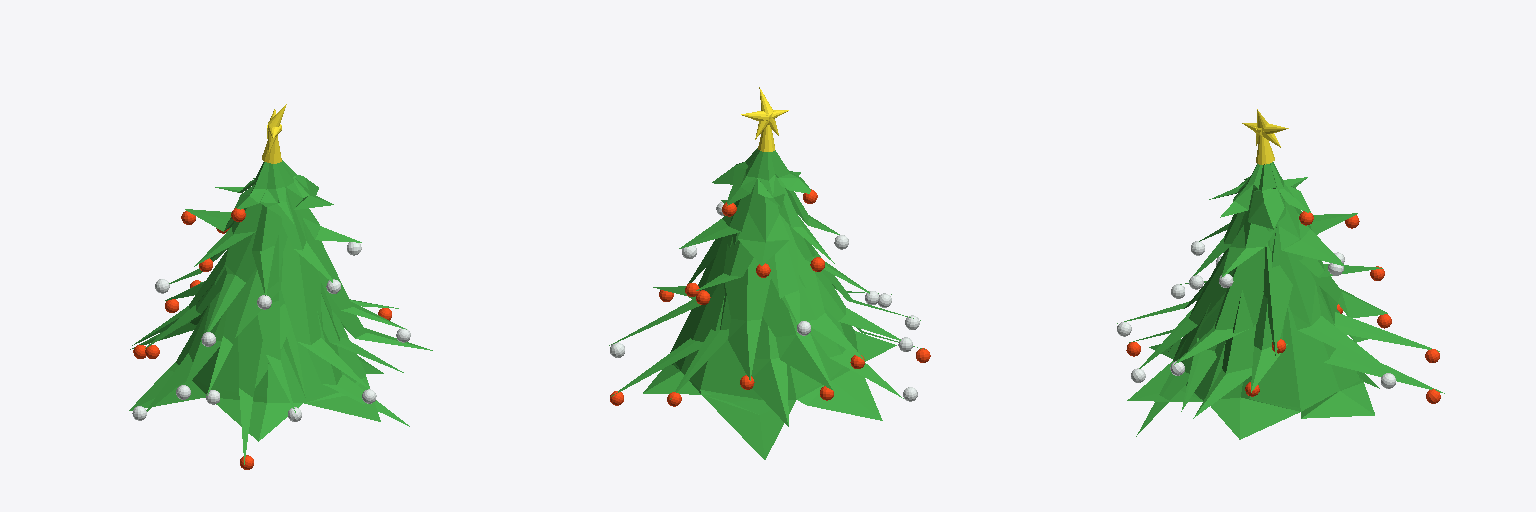
Rendered from tree_six.obj.
3 renders of one model, left to right at view 1: azimuth 30°, elevation 25°; view 2: azimuth 150°, elevation 25°; view 3: azimuth 270°, elevation 25°, orthographic.
Parts seen in each view (by area): view 1: group[number redacted], group[number redacted], group[number redacted], group[number redacted], group[number redacted], group[number redacted], group[number redacted]; view 2: group[number redacted], group[number redacted], group[number redacted], group[number redacted], group[number redacted], group[number redacted], group[number redacted]; view 3: group[number redacted], group[number redacted], group[number redacted], group[number redacted], group[number redacted], group[number redacted], group[number redacted].
Part boxes in pixels (x1,y1,x2,y2): group[number redacted]: (129,307,383,441); group[number redacted]: (145,218,406,395); group[number redacted]: (130,283,432,464); group[number redacted]: (185,187,361,295); group[number redacted]: (132,248,403,412); group[number redacted]: (169,225,305,397); group[number redacted]: (215,160,333,223); group[number redacted]: (643,273,896,459); group[number redacted]: (609,234,920,380); group[number redacted]: (653,232,900,399); group[number redacted]: (679,179,839,265); group[number redacted]: (611,297,924,426); group[number redacted]: (688,215,869,324); group[number redacted]: (712,148,810,207); group[number redacted]: (1127,294,1379,439); group[number redacted]: (1139,223,1397,376); group[number redacted]: (1129,290,1444,436); group[number redacted]: (1189,187,1357,280); group[number redacted]: (1117,193,1439,411); group[number redacted]: (1209,162,1310,229); group[number redacted]: (1168,243,1382,355).
Bounding box in the file's own units: 3.54 × 3.91 × 3.75.